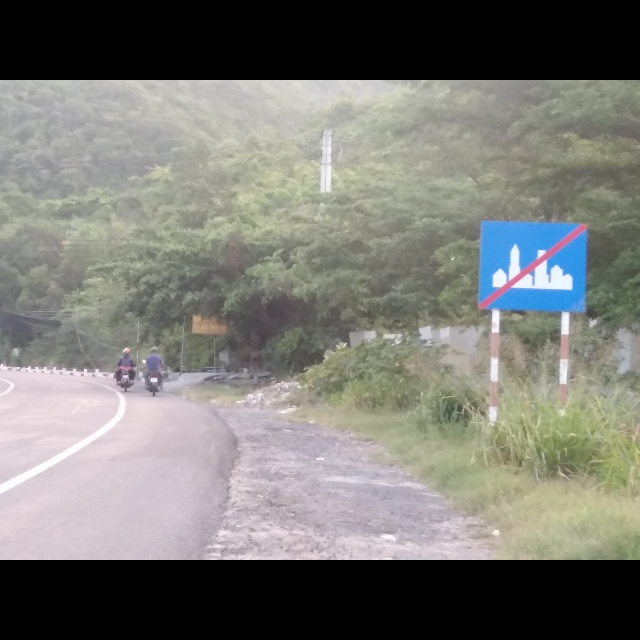Hết khu đông dân cư: (477, 219, 587, 314)
